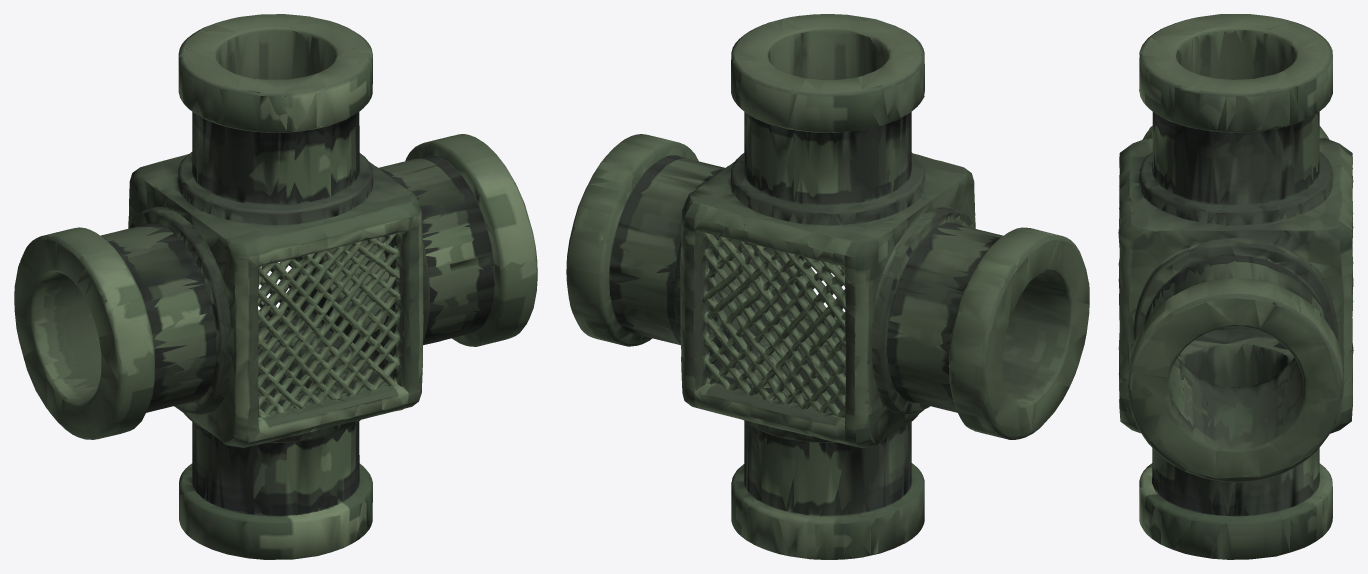
File: pipe_cross.glb
3 renders of one model, left to right at view 1: azimuth 30°, elevation 25°; view 2: azimuth 150°, elevation 25°; view 3: azimuth 270°, elevation 25°, orthographic.
Visible parts, largest first — view 1: mesh_node; view 2: mesh_node; view 3: mesh_node.
Boxes of the visible parts, x1=… form: mesh_node: x1=14, y1=14, x2=537, y2=559; mesh_node: x1=566, y1=14, x2=1089, y2=559; mesh_node: x1=1118, y1=14, x2=1353, y2=559.
Bounding box in the file's own units: 1.79 × 1.91 × 0.8678.
Materials: 1 (1 with a texture image).
